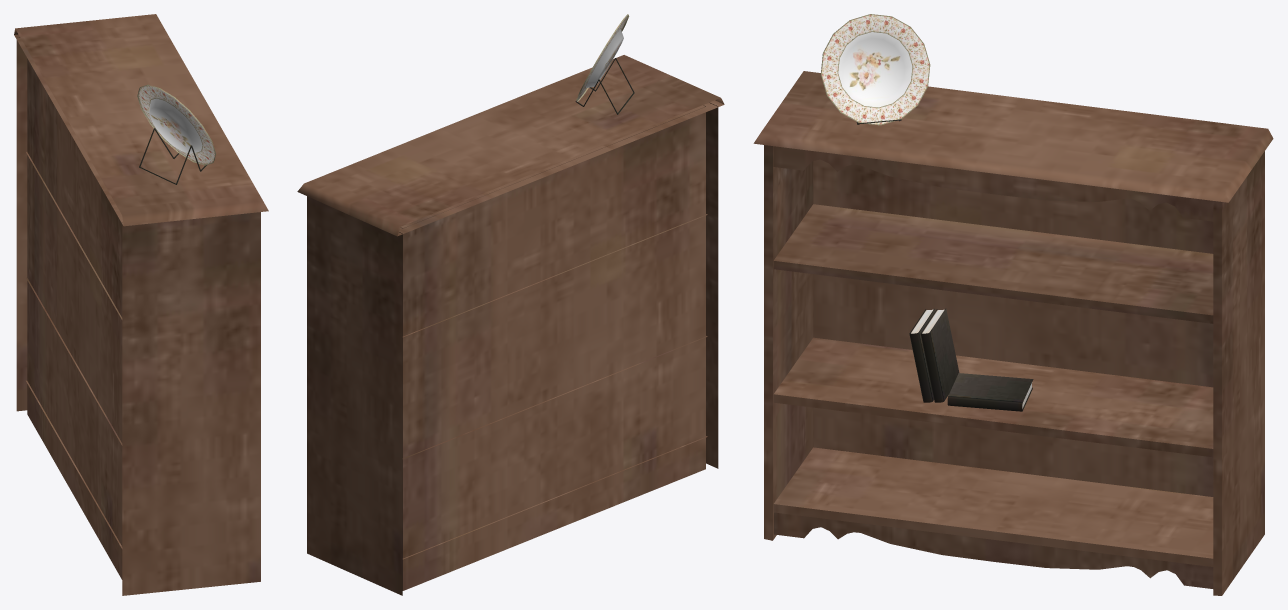
The model's file is Quarto_Estante.fbx.
3 renders of one model, left to right at view 1: azimuth 30°, elevation 25°; view 2: azimuth 150°, elevation 25°; view 3: azimuth 270°, elevation 25°, orthographic. The views are drawn at different scales.
Parts seen in each view (by area): view 1: QUARTOB_ARMARIO.001; view 2: QUARTOB_ARMARIO.001; view 3: QUARTOB_ARMARIO.001.
Boxes of the visible parts, x1=… form: QUARTOB_ARMARIO.001: x1=14, y1=14, x2=268, y2=595; QUARTOB_ARMARIO.001: x1=297, y1=14, x2=724, y2=595; QUARTOB_ARMARIO.001: x1=753, y1=14, x2=1273, y2=595.
Size of the model in its own units: 7100 by 13385 by 12631.
